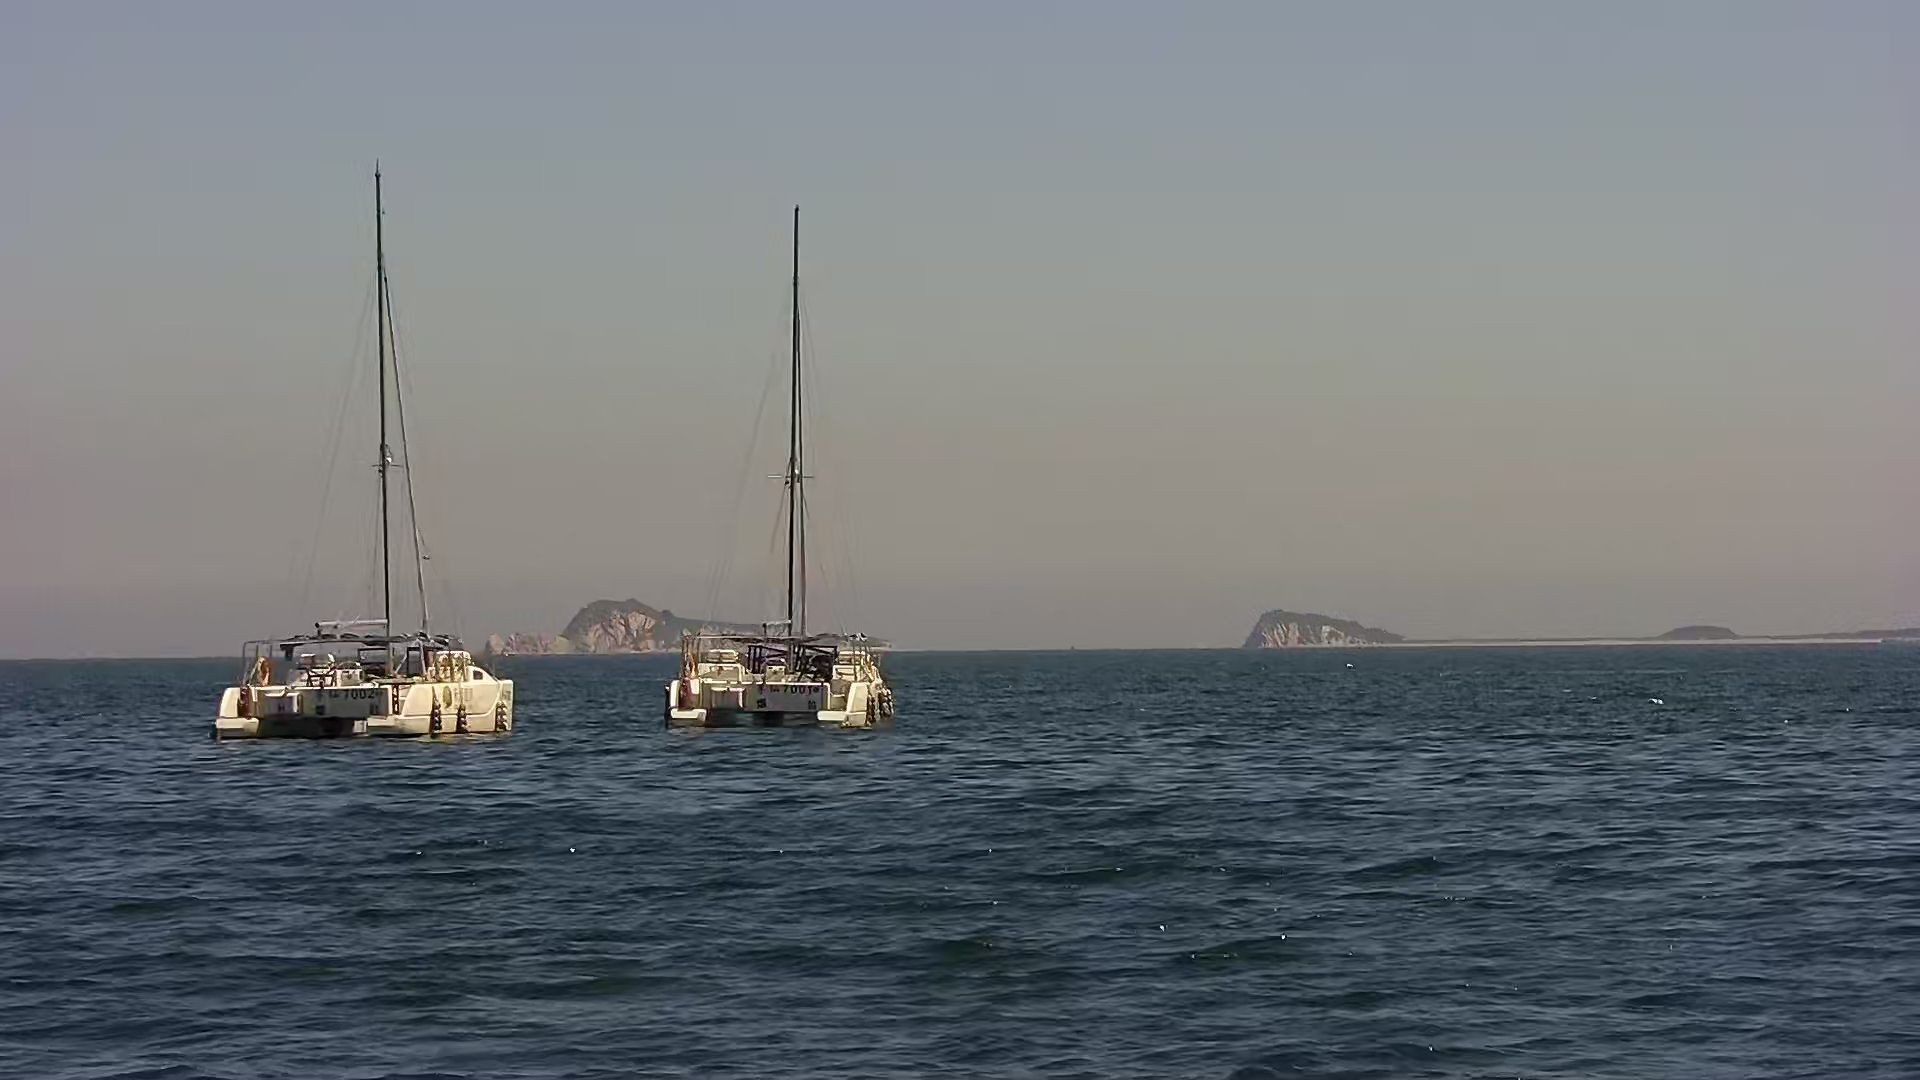boat: (196, 162, 535, 749), (663, 196, 907, 750)
rock: (501, 587, 770, 658), (1233, 604, 1418, 649), (1662, 613, 1735, 641)
